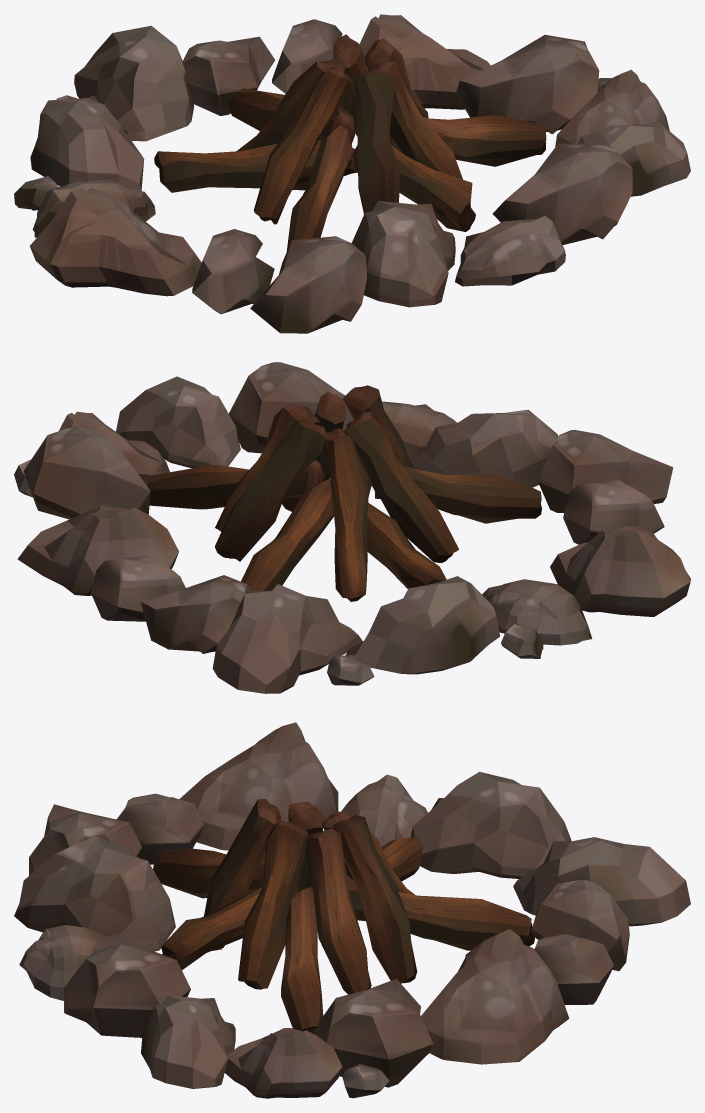
File: Campfire_Compeleted.fbx
3 views of the same model, one above another, from view 1: azimuth 30°, elevation 25°; view 2: azimuth 150°, elevation 25°; view 3: azimuth 270°, elevation 25° (orthographic). The views are drawn at different scales.
Visible parts, largest first — view 1: Campfire; view 2: Campfire; view 3: Campfire.
Boxes of the visible parts, x1,y1,x2,y2 form: Campfire: (14,14,690,333); Campfire: (14,362,690,693); Campfire: (14,722,690,1098).
Size of the model in its own units: 12.14 by 2.76 by 10.83.
